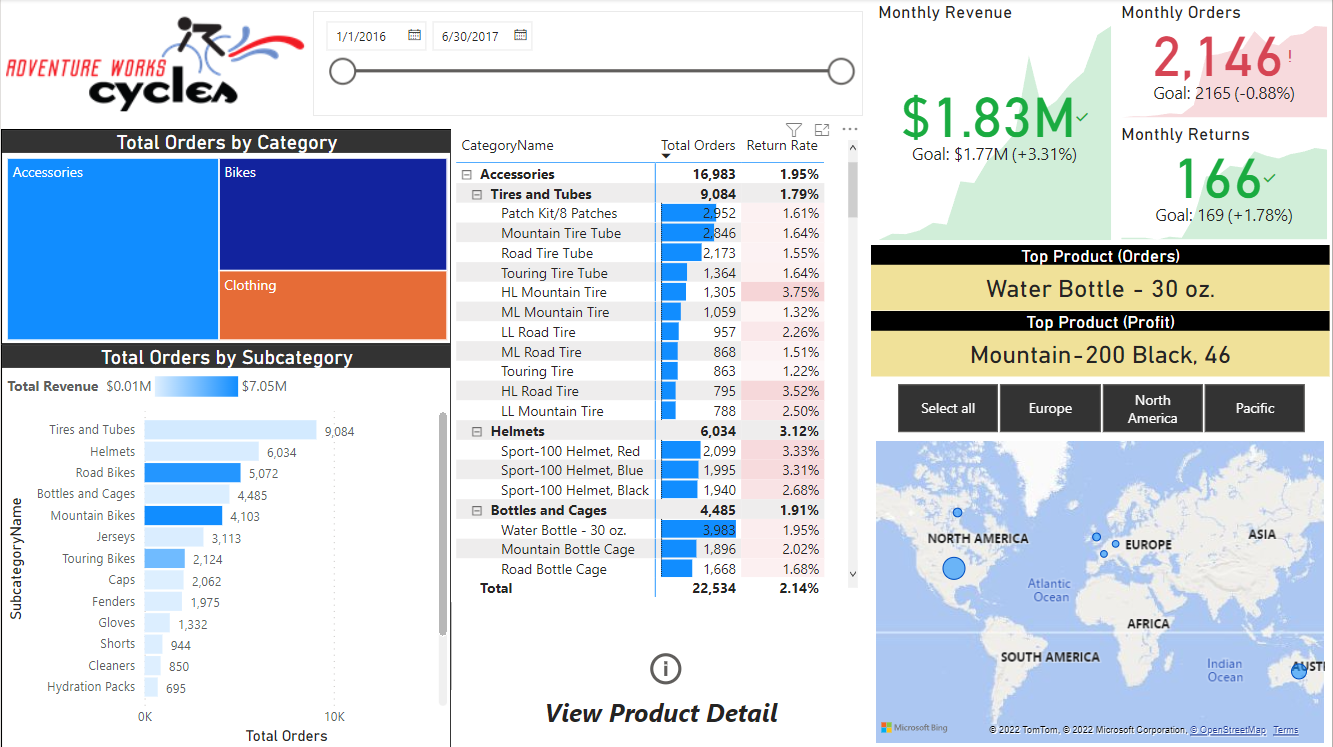

The page's visual inventory and layout, read from the dashboard file:
{"tool":"powerbi","page":{"name":"Exec Summary","canvas":[1280,720],"ordinal":0},"visuals":[{"type":"image","box":[0,0,300,125],"z":0},{"type":"barChart","title":"Total Orders by Subcategory","fields":{"Y":["AW_Sales.Total Orders"],"Category":["AW_Product_Subcategy_Lookup.SubcategoryName"]},"box":[0,331.8,432.8,388.5],"z":1000},{"type":"treemap","title":"Total Orders by Category","fields":{"Group":["AW_Product_Category_Lookup.CategoryName","AW_Product_Subcategy_Lookup.SubcategoryName"],"Values":["AW_Sales.Total Orders"]},"box":[0,125,432.8,206.8],"z":2000},{"type":"pivotTable","fields":{"Values":["AW_Sales.Total Orders","AW_Returns.Return Rate"],"Rows":["AW_Product_Category_Lookup.CategoryName","AW_Product_Subcategy_Lookup.SubcategoryName","AW_Product_Lookup.ProductName"]},"box":[433,124.7,396.2,455.2],"z":3000},{"type":"slicer","fields":{"Values":["AW_Calendar_Lookup.Date"]},"box":[300,11.5,528.9,101],"z":4000},{"type":"kpi","title":"Monthly Revenue","fields":{"Indicator":["AW_Sales.Total Revenue"],"TrendLine":["AW_Calendar_Lookup.Start of Month"],"Goal":["AW_Sales.Prev Month Revenue"]},"box":[838.6,1.9,233.7,234.7],"z":5000},{"type":"kpi","title":"Monthly Orders","fields":{"TrendLine":["AW_Calendar_Lookup.Start of Month"],"Indicator":["AW_Sales.Total Orders"],"Goal":["AW_Sales.Prev Month Orders"]},"box":[1072.3,1.9,207.7,117.3],"z":6000},{"type":"kpi","title":"Monthly Returns","fields":{"TrendLine":["AW_Calendar_Lookup.Start of Month"],"Indicator":["AW_Returns.Total Returns"],"Goal":["AW_Returns.Prev Month Returns"]},"box":[1072.3,119.2,207.7,117.3],"z":7000},{"type":"card","title":"Top Product (Orders)","fields":{"Values":["Min(AW_Product_Lookup.ProductName)"]},"box":[836.7,236.6,441.4,63.5],"z":8000},{"type":"card","title":"Top Product (Profit)","fields":{"Values":["Min(AW_Product_Lookup.ProductName)"]},"box":[836.7,300,441.4,63.5],"z":9000},{"type":"map","fields":{"Size":["AW_Sales.Total Orders"],"Category":["AW_Territories_Lookup.Country"]},"box":[836.7,420.3,441.4,300],"z":10000},{"type":"slicer","fields":{"Values":["AW_Territories_Lookup.Continent"]},"box":[836.7,363.5,441.4,59.6],"z":11000},{"type":"textbox","box":[433,664.5,404,55.7],"z":12000},{"type":"actionButton","box":[618.9,624.4,42.3,40.1],"z":13000}]}

Visuals, with their boxes in screenshot pixels (x1, y1, x2, y2), scaled from the page's 1280x720 canvas onto the 1333x747 screenshot:
image: (x1=0, y1=0, x2=312, y2=130)
"Total Orders by Subcategory" barChart: (x1=0, y1=344, x2=451, y2=746)
"Total Orders by Category" treemap: (x1=0, y1=130, x2=451, y2=344)
pivotTable - AW_Sales.Total Orders x AW_Returns.Return Rate: (x1=451, y1=129, x2=864, y2=602)
slicer - AW_Calendar_Lookup.Date: (x1=312, y1=12, x2=863, y2=117)
"Monthly Revenue" kpi: (x1=873, y1=2, x2=1117, y2=245)
"Monthly Orders" kpi: (x1=1117, y1=2, x2=1332, y2=124)
"Monthly Returns" kpi: (x1=1117, y1=124, x2=1332, y2=245)
"Top Product (Orders)" card: (x1=871, y1=245, x2=1331, y2=311)
"Top Product (Profit)" card: (x1=871, y1=311, x2=1331, y2=377)
map - AW_Sales.Total Orders x AW_Territories_Lookup.Country: (x1=871, y1=436, x2=1331, y2=746)
slicer - AW_Territories_Lookup.Continent: (x1=871, y1=377, x2=1331, y2=439)
textbox: (x1=451, y1=689, x2=872, y2=746)
actionButton: (x1=645, y1=648, x2=689, y2=689)
